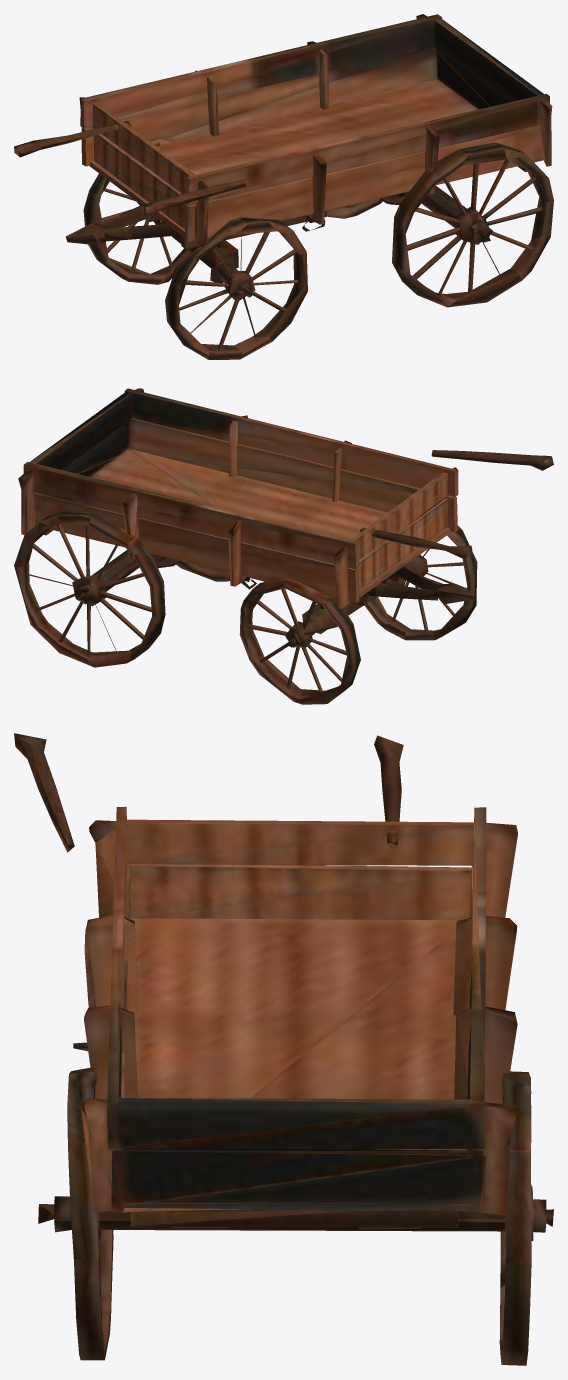
The model's file is market-cart.lod1.glb.
The picture shows the model from 3 angles, top to bottom: view 1: azimuth 30°, elevation 25°; view 2: azimuth 150°, elevation 25°; view 3: azimuth 270°, elevation 25°; orthographic projection. The views are drawn at different scales.
Size of the model in its own units: 2.2 by 0.9487 by 1.36.
Materials: 1 (1 with a texture image).
